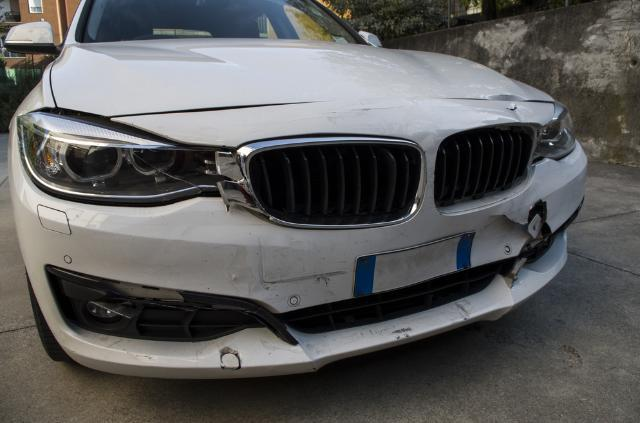Bumper: (482, 159, 574, 316)
